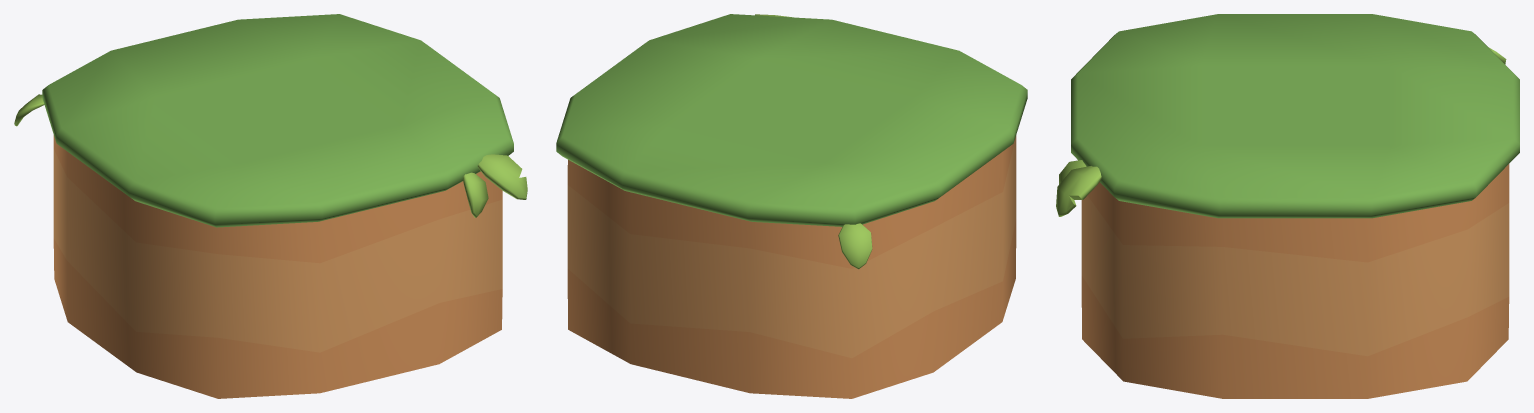
File: ground 01_toon_material_0.001.glb
3 renders of one model, left to right at view 1: azimuth 30°, elevation 25°; view 2: azimuth 150°, elevation 25°; view 3: azimuth 270°, elevation 25°, orthographic. The views are drawn at different scales.
Parts seen in each view (by area): view 1: ground 01_toon_material_0.001; view 2: ground 01_toon_material_0.001; view 3: ground 01_toon_material_0.001.
Boxes of the visible parts, x1=… form: ground 01_toon_material_0.001: x1=14, y1=14, x2=527, y2=398; ground 01_toon_material_0.001: x1=556, y1=14, x2=1027, y2=398; ground 01_toon_material_0.001: x1=1056, y1=14, x2=1519, y2=398.
Bounding box in the file's own units: 2.1 × 1.05 × 2.17.
Materials: 1 (1 with a texture image).
